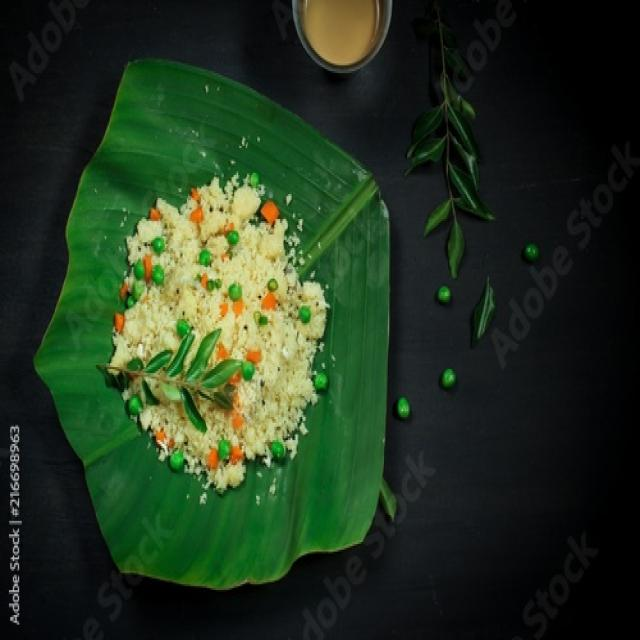UPMA: (108, 179, 329, 490)
